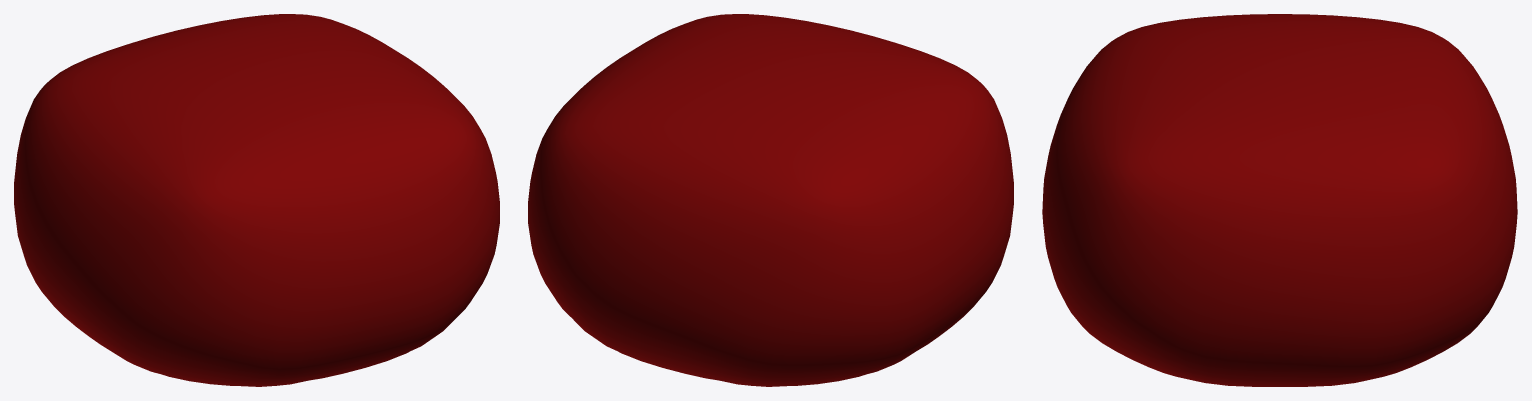
Rendered from Pouf2_7.fbx.
3 views of the same model, side by side, from view 1: azimuth 30°, elevation 25°; view 2: azimuth 150°, elevation 25°; view 3: azimuth 270°, elevation 25° (orthographic). The views are drawn at different scales.
Visible parts, largest first — view 1: pCube2899; view 2: pCube2899; view 3: pCube2899.
Part boxes in pixels (x1,y1,x2,y2): pCube2899: (14,14,499,386); pCube2899: (528,14,1013,386); pCube2899: (1042,14,1517,386).
Size of the model in its own units: 34.76 by 23.17 by 34.75.
